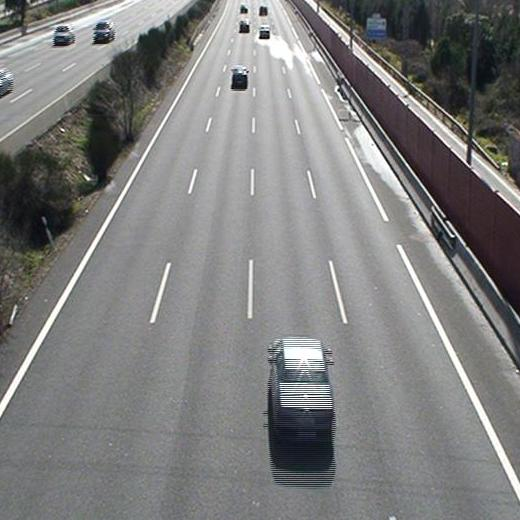car: (268, 336, 334, 439), (231, 65, 248, 90), (259, 24, 270, 40), (238, 20, 250, 33)
